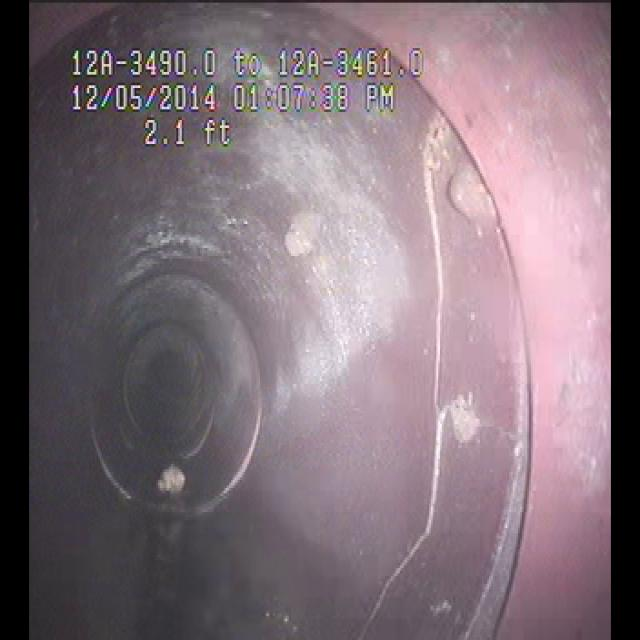Crack: (376, 150, 490, 618)
